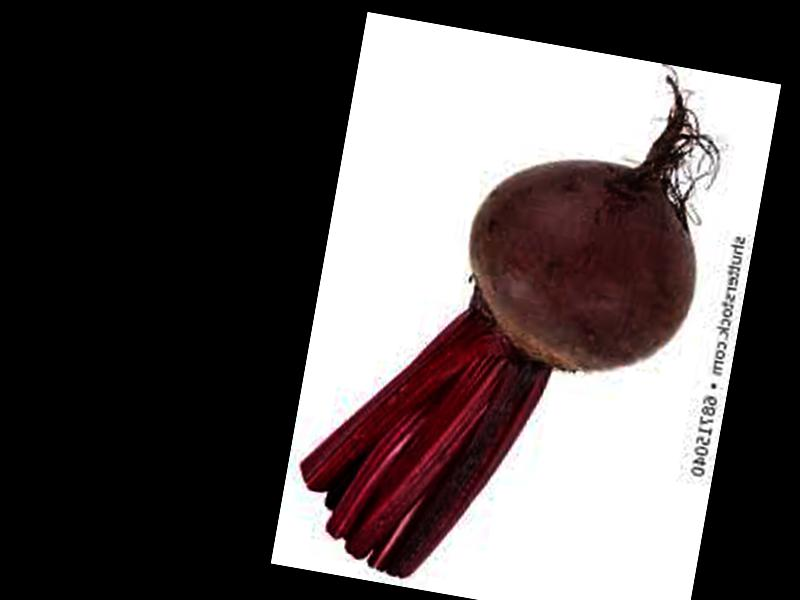Beet: (287, 25, 727, 600)
